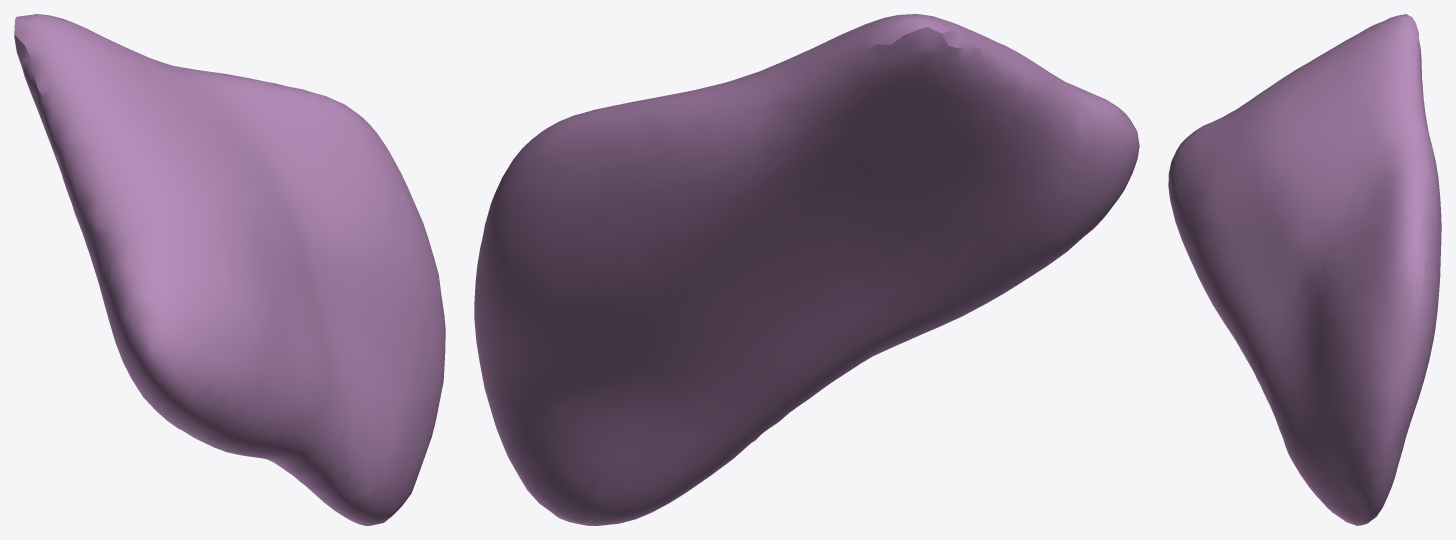
3 views of the same model, side by side, from view 1: azimuth 30°, elevation 25°; view 2: azimuth 150°, elevation 25°; view 3: azimuth 270°, elevation 25° (orthographic). The views are drawn at different scales.
Parts seen in each view (by area): view 1: 左侧中央小叶翼; view 2: 左侧中央小叶翼; view 3: 左侧中央小叶翼.
Part boxes in pixels (bbox=[...]): 左侧中央小叶翼: bbox=[14, 14, 445, 525]; 左侧中央小叶翼: bbox=[474, 14, 1139, 525]; 左侧中央小叶翼: bbox=[1168, 14, 1441, 525].
Bounding box in the file's own units: 0.0256 × 0.0303 × 0.019.
